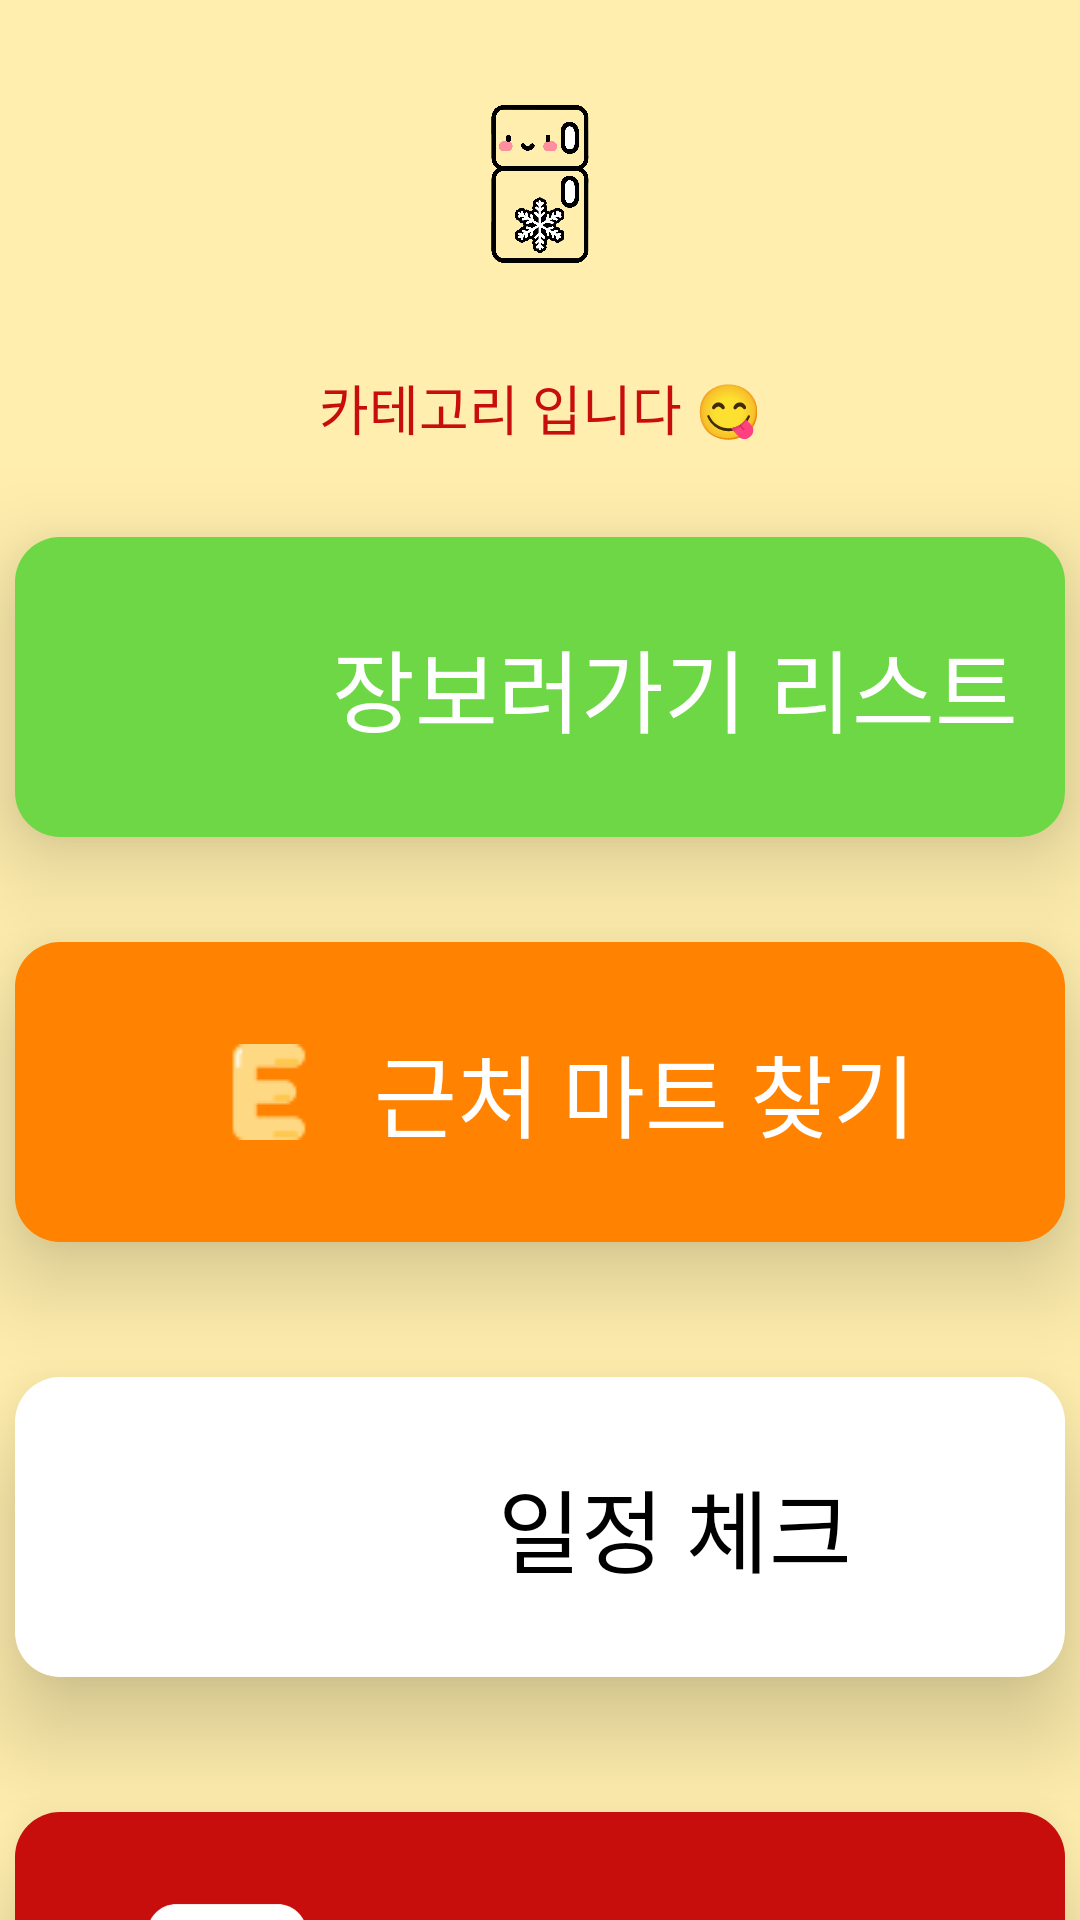

Icon bounding boxes for this 1080px x 1920px phone screenshot, format box(x1, y1, x2, y2):
fridge: box(491, 105, 589, 263)
